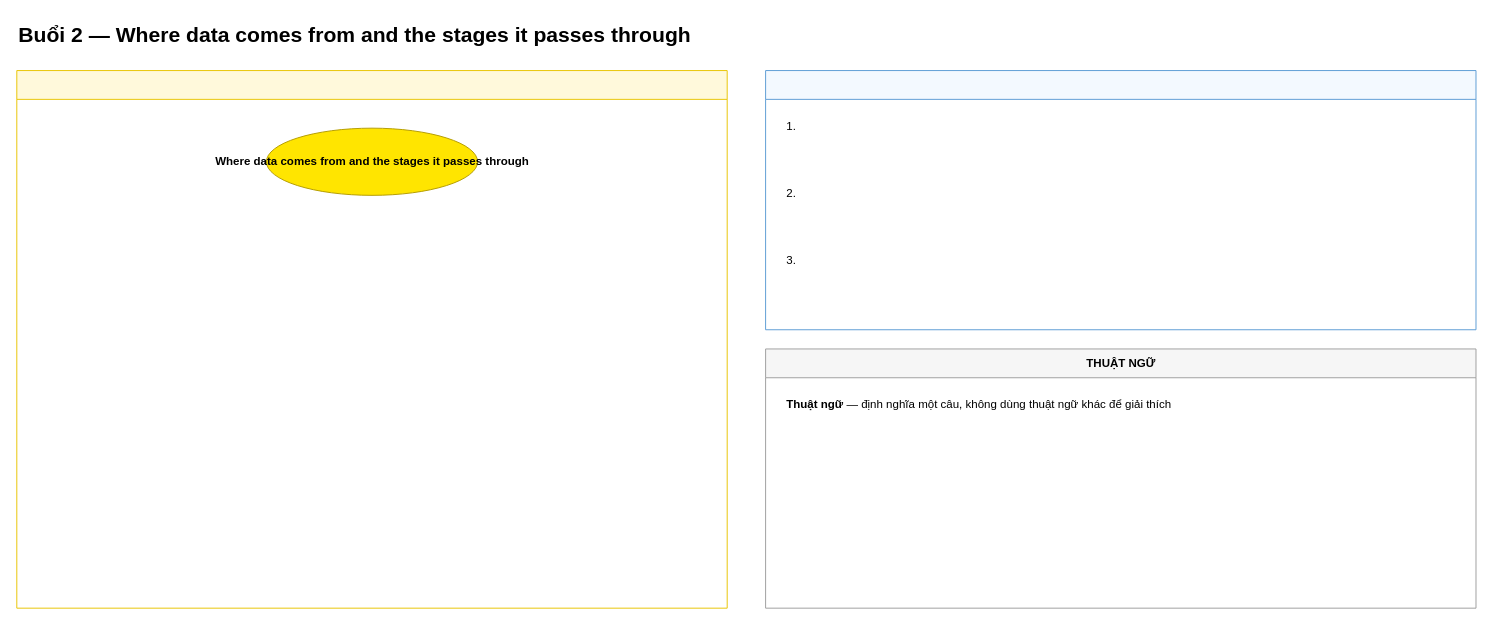
The diagram is 1493 pixels wide and 625 high, and some of its shapes have lost their labels. Each missing label, with the box of its shape:
KEY TAKEAWAY — ba điều phải nhớ: (765, 70, 1476, 330)
MINDMAP: (16, 70, 727, 608)
